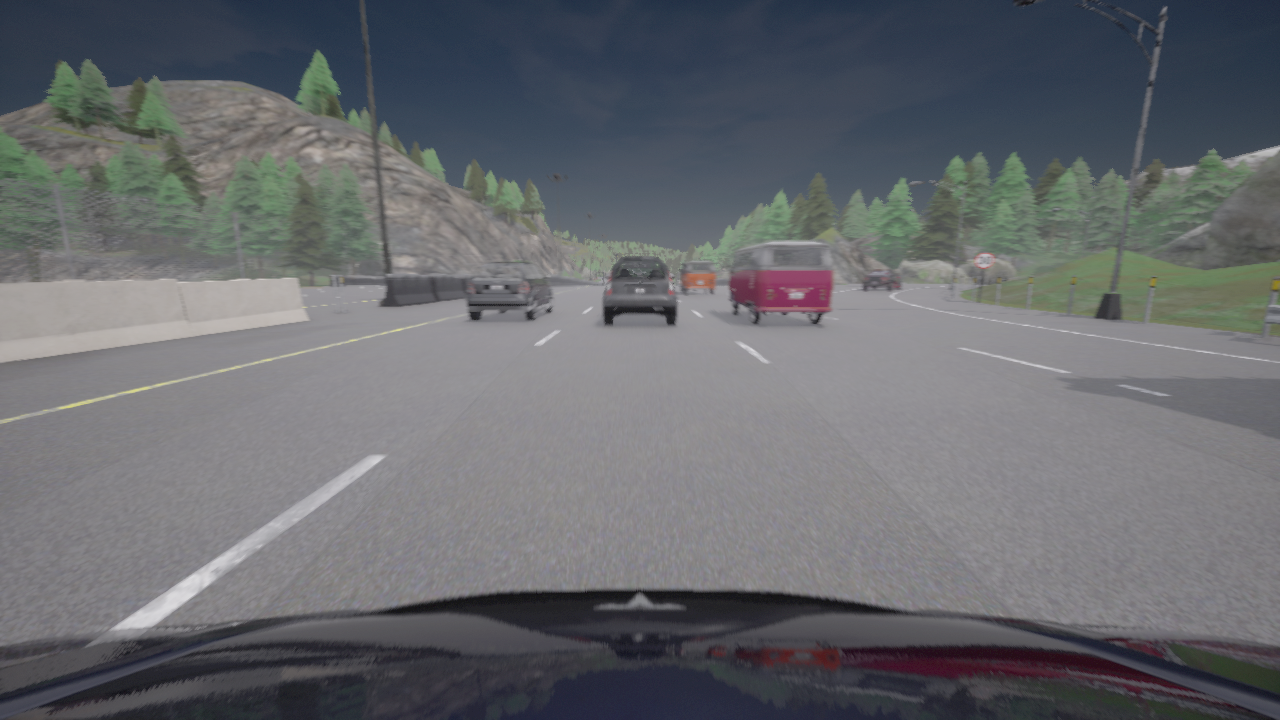cyclist: (0, 588, 1279, 719), (726, 240, 833, 324), (466, 261, 553, 320), (603, 257, 676, 325), (680, 261, 715, 294), (862, 269, 900, 290)
